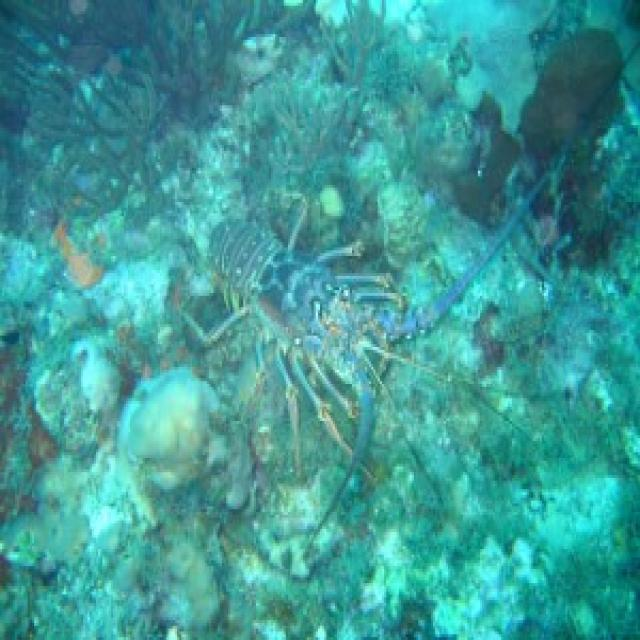lobsters: (146, 79, 508, 501)
